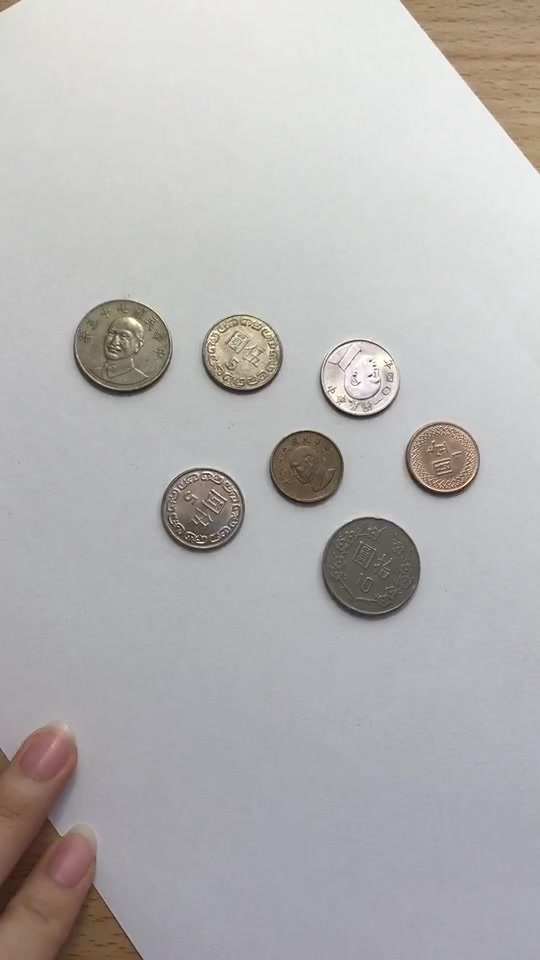1 dallar: (254, 419, 351, 507), (393, 417, 490, 505)
10 dallar: (57, 288, 176, 401), (311, 509, 430, 622)
5 dallar: (148, 456, 250, 559), (188, 307, 290, 410), (309, 318, 411, 421)
